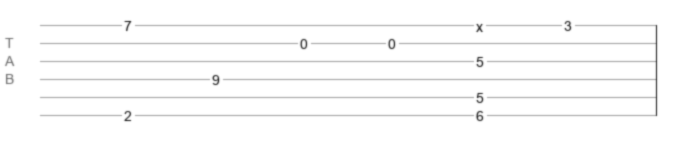0: (300, 36, 308, 46), (388, 36, 396, 46)
2: (124, 108, 132, 118)
3: (564, 18, 572, 28)
5: (476, 90, 484, 100), (476, 54, 484, 64)
6: (476, 108, 484, 118)
7: (124, 18, 132, 28)
9: (212, 72, 220, 82)
x: (476, 19, 483, 27)
